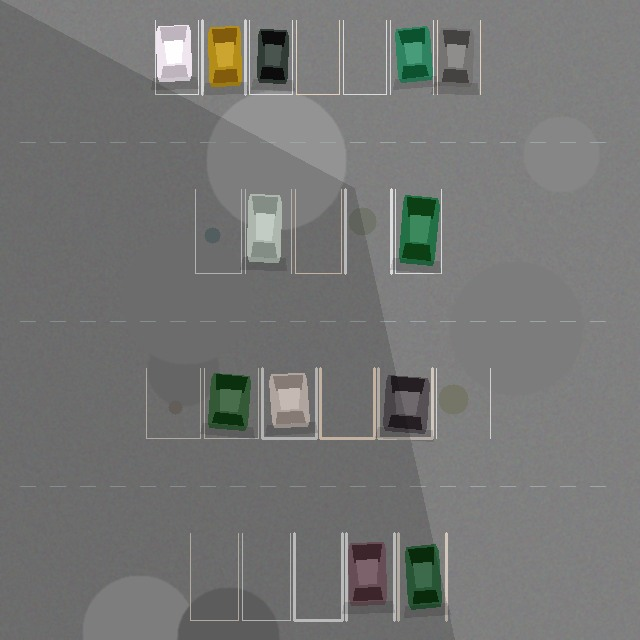space-empty: (190, 533, 238, 620), (242, 533, 290, 620), (294, 533, 342, 620), (195, 189, 241, 273), (295, 189, 341, 273), (345, 189, 391, 273), (146, 368, 200, 438), (320, 368, 374, 438), (436, 368, 490, 438), (296, 20, 339, 94), (343, 20, 386, 94)
space-occupied: (346, 533, 394, 620), (398, 533, 446, 620), (245, 189, 291, 273), (395, 189, 441, 273), (204, 368, 258, 438), (262, 368, 316, 438), (378, 368, 432, 438), (155, 20, 198, 94), (202, 20, 245, 94), (249, 20, 292, 94), (390, 20, 433, 94), (437, 20, 480, 94)
